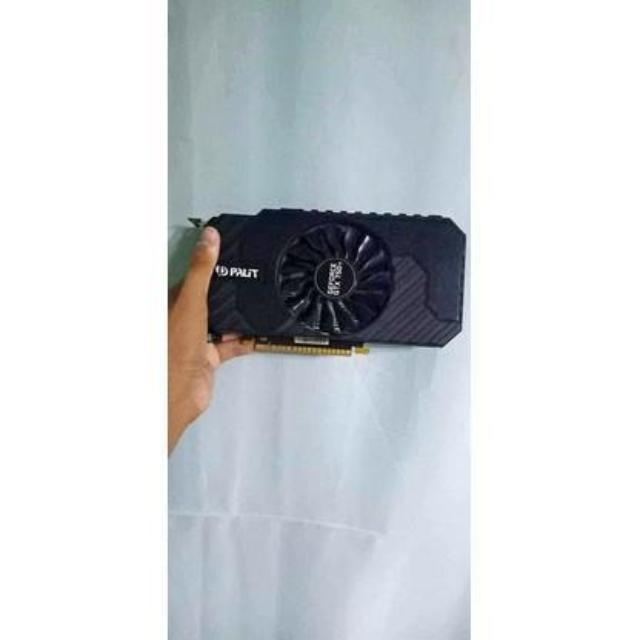GPU: (195, 208, 468, 366)
